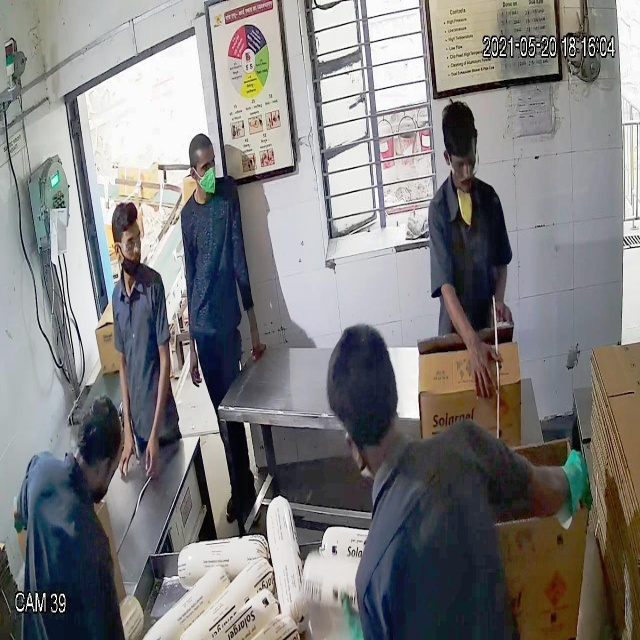Gafas: (440, 139, 483, 182), (111, 233, 146, 255)
